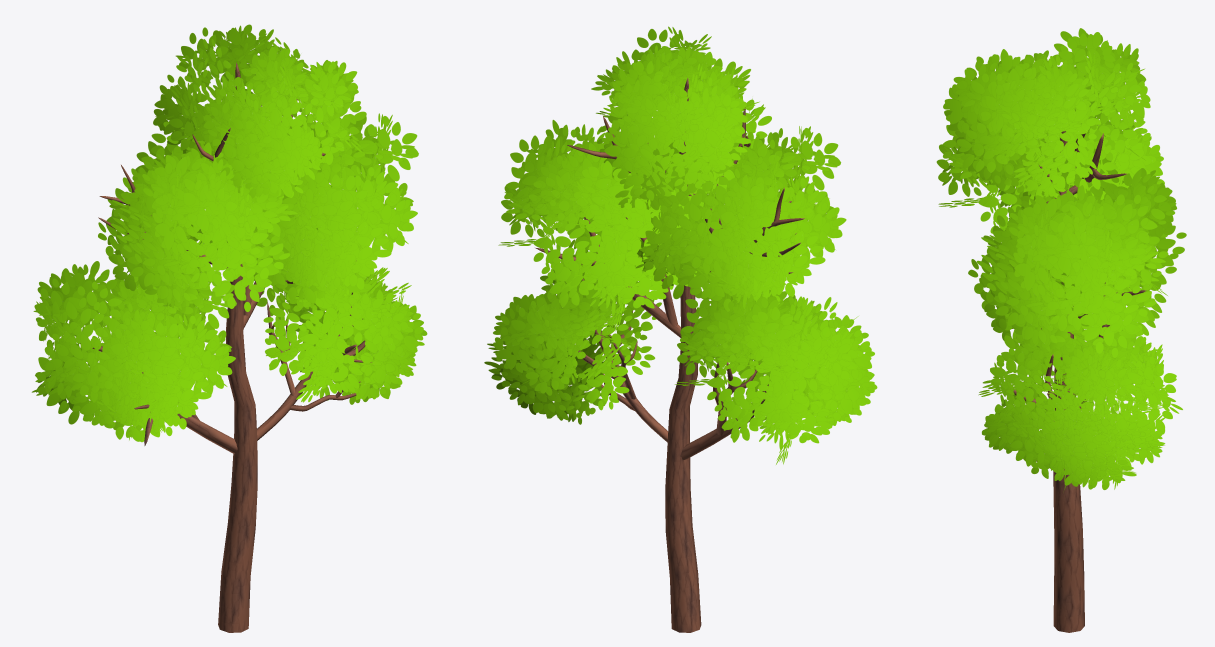
File: normaltree_2.glb
The picture shows the model from 3 angles, left to right: view 1: azimuth 30°, elevation 25°; view 2: azimuth 150°, elevation 25°; view 3: azimuth 270°, elevation 25°; orthographic projection. The views are drawn at different scales.
Parts seen in each view (by area): view 1: NormalTree_2; view 2: NormalTree_2; view 3: NormalTree_2.
Part boxes in pixels (box(x1,y1,x2,y2)): NormalTree_2: box(31, 24, 427, 632); NormalTree_2: box(484, 26, 877, 632); NormalTree_2: box(936, 28, 1186, 632).
Size of the model in its own units: 4.55 by 6.56 by 2.79.
Materials: 2 (2 with a texture image).
